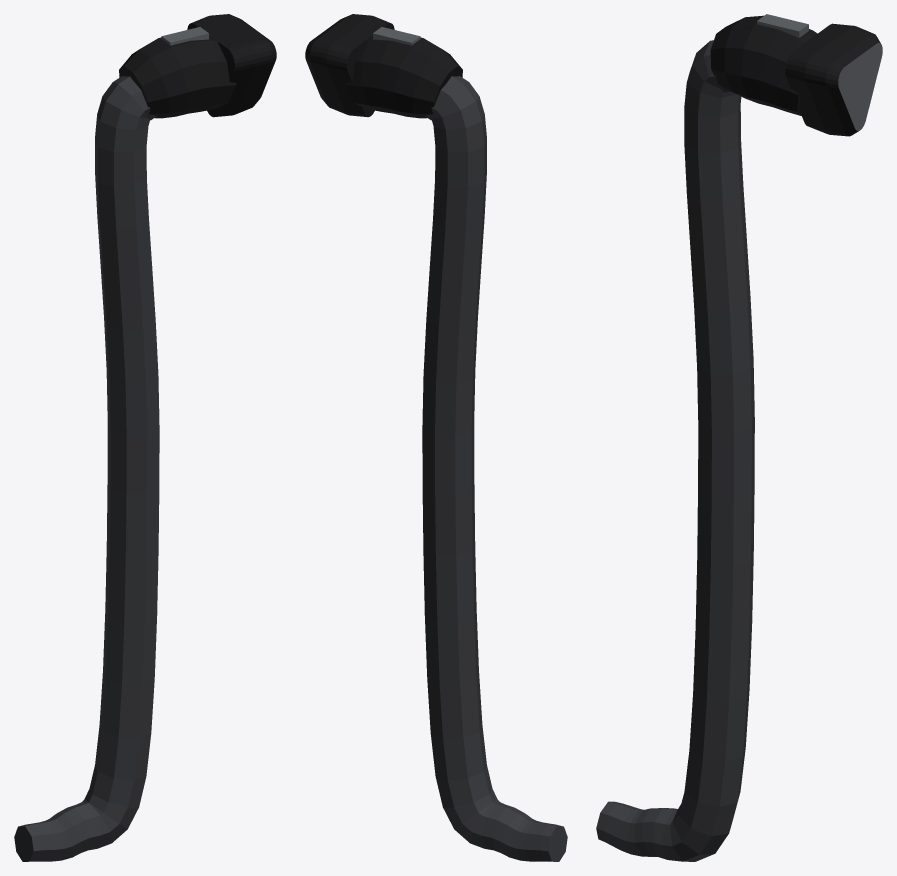
File: MinidoracatTesla_CablePlugSemi.fbx
3 views of the same model, side by side, from view 1: azimuth 30°, elevation 25°; view 2: azimuth 150°, elevation 25°; view 3: azimuth 330°, elevation 25° (orthographic). The views are drawn at different scales.
Visible parts, largest first — view 1: MinidoracatTesla_CablePlugSemi; view 2: MinidoracatTesla_CablePlugSemi; view 3: MinidoracatTesla_CablePlugSemi.
Part boxes in pixels (bbox=[...]): MinidoracatTesla_CablePlugSemi: bbox=[14, 14, 276, 861]; MinidoracatTesla_CablePlugSemi: bbox=[305, 14, 567, 861]; MinidoracatTesla_CablePlugSemi: bbox=[596, 14, 882, 861].
Bounding box in the file's own units: 0.3619 × 1.18 × 0.1352.
